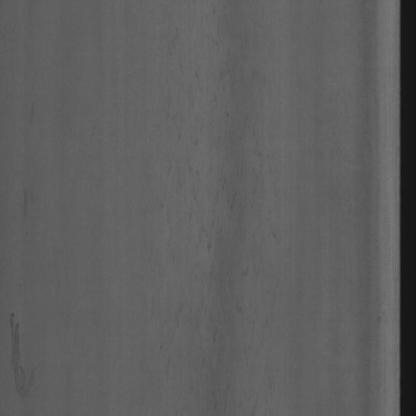silk_spot: (144, 58, 284, 400)
water_spot: (7, 300, 50, 412)
